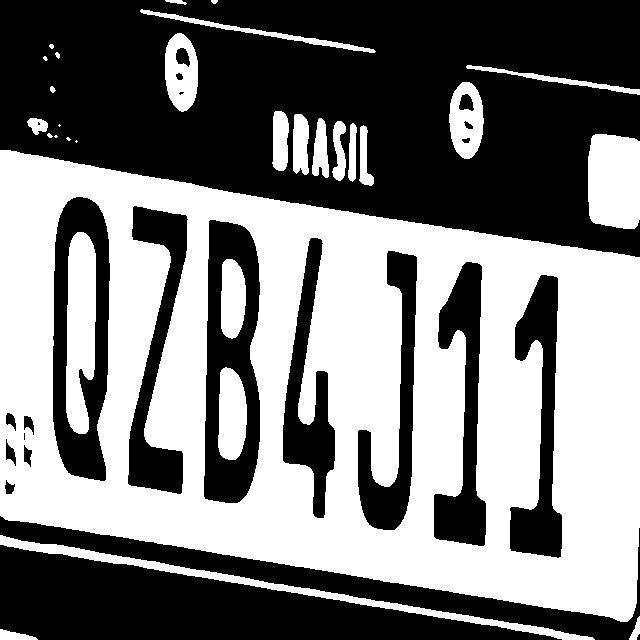1: (501, 265, 575, 565), (428, 258, 494, 556)
4: (279, 232, 347, 522)
b: (200, 212, 269, 512)
j: (349, 245, 422, 541)
q: (44, 191, 118, 488)
z: (124, 198, 194, 504)
